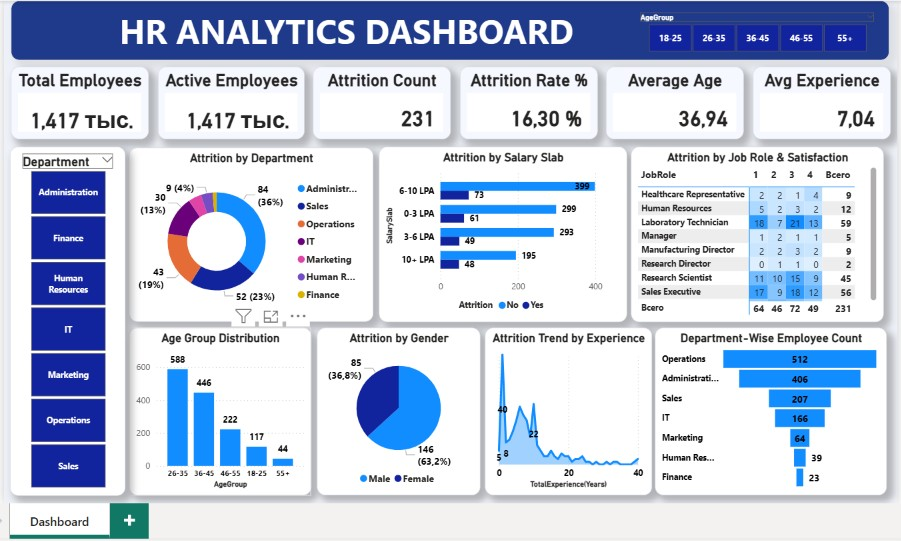

This screenshot's page, from the dashboard's own definition file:
{"tool":"powerbi","page":{"name":"Dashboard","canvas":[1280,720],"ordinal":0},"visuals":[{"type":"textbox","box":[10,0,1258,85],"z":0},{"type":"cardVisual","title":"Total Employees","fields":{"Data":["CountNonNull(HR_Analytics-4.EmpID)"]},"box":[10.6,95,197,104],"z":1000},{"type":"cardVisual","title":"Active Employees","fields":{"Data":["CountNonNull(HR_Analytics-4.EmpID)"]},"box":[220.4,95,210,104],"z":2000},{"type":"cardVisual","title":"Attrition Count","fields":{"Data":["Sum(HR_Analytics-4.AttritionCount)"]},"box":[443.2,95,197,104],"z":3000},{"type":"cardVisual","title":"Attrition Rate %","fields":{"Data":["HR_Analytics-4.Attrition Rate %"]},"box":[653,95,197,104],"z":4000},{"type":"cardVisual","title":"Average Age","fields":{"Data":["Avg(HR_Analytics-4.Age)"]},"box":[862.8,95,197,104],"z":5000},{"type":"cardVisual","title":"Avg Experience","fields":{"Data":["Avg(HR_Analytics-4.YearsatCompany)"]},"box":[1072.6,95,197,104],"z":6000},{"type":"donutChart","title":"Attrition by Department","fields":{"Category":["HR_Analytics-4.Department"],"Y":["Sum(HR_Analytics-4.AttritionCount)"]},"box":[179,210,350,249],"z":7000},{"type":"clusteredBarChart","title":"Attrition by Salary Slab","fields":{"Category":["HR_Analytics-4.SalarySlab"],"Y":["CountNonNull(HR_Analytics-4.EmpID)"],"Series":["HR_Analytics-4.Attrition"]},"box":[537,209,355,251],"z":8000},{"type":"pivotTable","title":"Attrition by Job Role & Satisfaction","fields":{"Rows":["HR_Analytics-4.JobRole"],"Values":["Sum(HR_Analytics-4.AttritionCount)"],"Columns":["HR_Analytics-4.JobSatisfaction"]},"box":[898,209,362,251],"z":9000},{"type":"columnChart","title":"Age Group Distribution","fields":{"Category":["HR_Analytics-4.AgeGroup"],"Y":["Sum(HR_Analytics-4.EmployeeCount)"]},"box":[179,469,261,240],"z":10000},{"type":"pieChart","title":"Attrition by Gender","fields":{"Category":["HR_Analytics-4.Gender"],"Y":["Sum(HR_Analytics-4.AttritionCount)"]},"box":[448,469,234,240],"z":11000},{"type":"stackedAreaChart","title":"Attrition Trend by Experience","fields":{"Y":["Sum(HR_Analytics-4.AttritionCount)"],"Category":["HR_Analytics-4.TotalExperience(Years)"]},"box":[689,469,239,240],"z":12000},{"type":"funnel","title":"Department-Wise Employee Count","fields":{"Category":["HR_Analytics-4.Department"],"Y":["CountNonNull(HR_Analytics-4.EmpID)"]},"box":[933,469,332,240],"z":13000},{"type":"slicer","fields":{"Values":["HR_Analytics-4.Department"]},"box":[9,209,165,500],"z":14000},{"type":"slicer","fields":{"Values":["HR_Analytics-4.AgeGroup"]},"box":[898,12,361,68],"z":15000}]}

Visuals, with their boxes on the page's 1280x720 design canvas (x1, y1, x2, y2). These are canvas units, not pixel positions in the 901x541 screenshot, which may show the page scaled, cropped or inside an application window:
textbox: bbox=[10, 0, 1268, 85]
"Total Employees" cardVisual: bbox=[11, 95, 208, 199]
"Active Employees" cardVisual: bbox=[220, 95, 430, 199]
"Attrition Count" cardVisual: bbox=[443, 95, 640, 199]
"Attrition Rate %" cardVisual: bbox=[653, 95, 850, 199]
"Average Age" cardVisual: bbox=[863, 95, 1060, 199]
"Avg Experience" cardVisual: bbox=[1073, 95, 1270, 199]
"Attrition by Department" donutChart: bbox=[179, 210, 529, 459]
"Attrition by Salary Slab" clusteredBarChart: bbox=[537, 209, 892, 460]
"Attrition by Job Role & Satisfaction" pivotTable: bbox=[898, 209, 1260, 460]
"Age Group Distribution" columnChart: bbox=[179, 469, 440, 709]
"Attrition by Gender" pieChart: bbox=[448, 469, 682, 709]
"Attrition Trend by Experience" stackedAreaChart: bbox=[689, 469, 928, 709]
"Department-Wise Employee Count" funnel: bbox=[933, 469, 1265, 709]
slicer - HR_Analytics-4.Department: bbox=[9, 209, 174, 709]
slicer - HR_Analytics-4.AgeGroup: bbox=[898, 12, 1259, 80]
